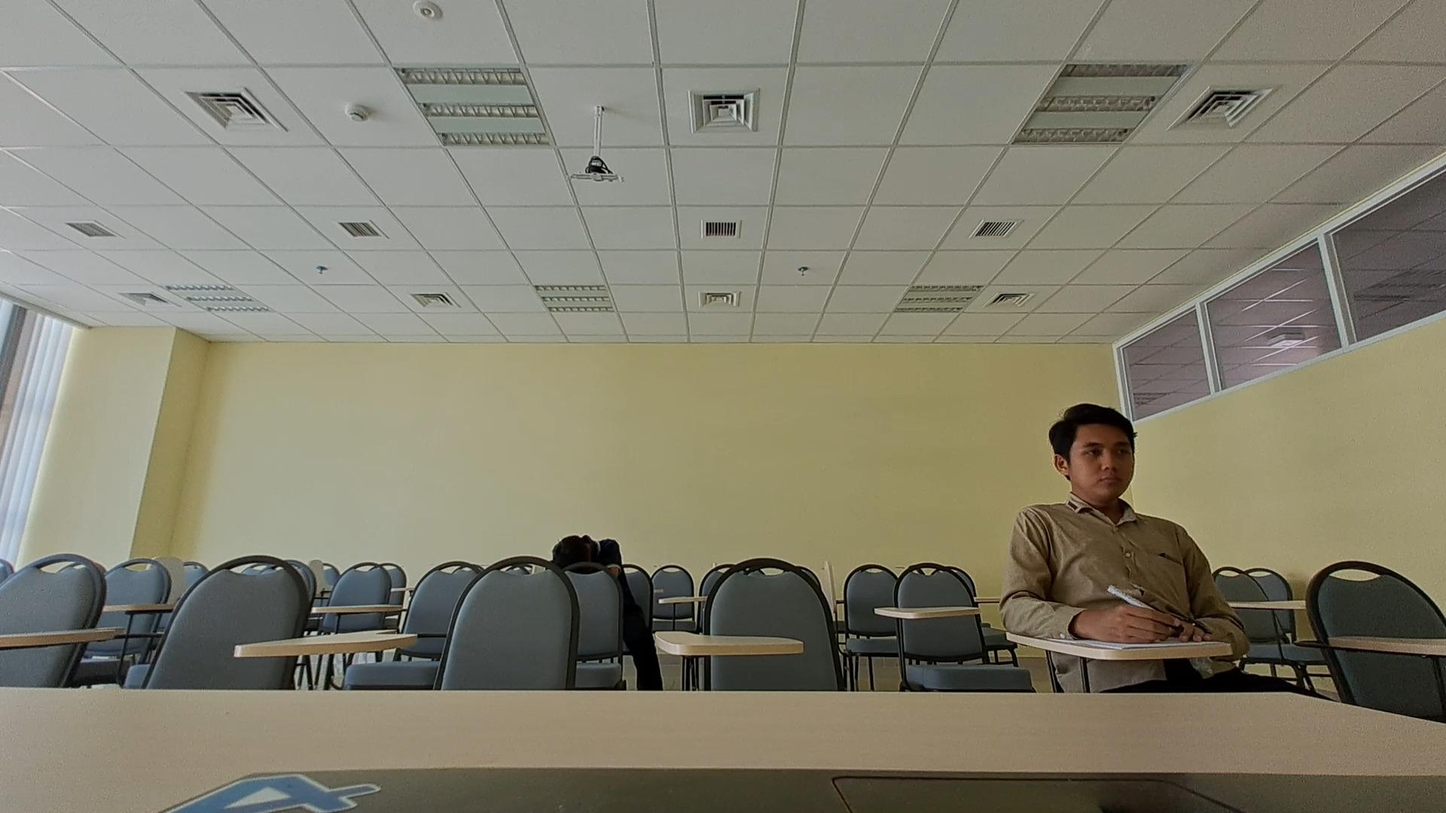sleep: (548, 535, 626, 579)
study: (1000, 402, 1236, 640)
